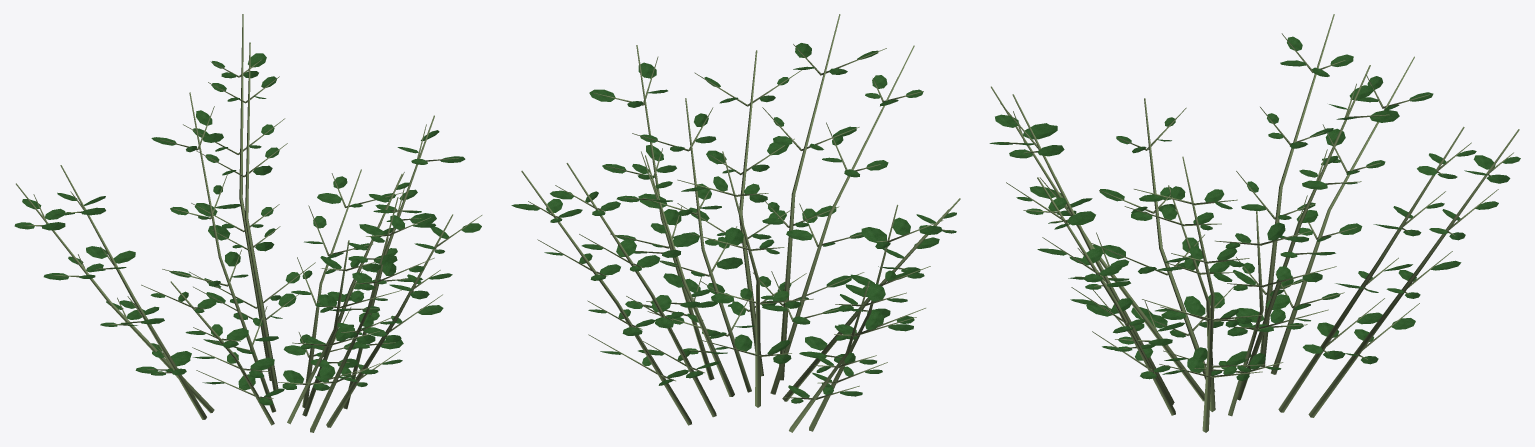
Rendered from Bilberry_Type_Cover_01_LOD2.fbx.
3 views of the same model, side by side, from view 1: azimuth 30°, elevation 25°; view 2: azimuth 150°, elevation 25°; view 3: azimuth 270°, elevation 25° (orthographic). The views are drawn at different scales.
Parts seen in each view (by area): view 1: Bilberry_Type_Cover_01_LOD2_Mesh; view 2: Bilberry_Type_Cover_01_LOD2_Mesh; view 3: Bilberry_Type_Cover_01_LOD2_Mesh.
Boxes of the visible parts, bbox=[...] form: Bilberry_Type_Cover_01_LOD2_Mesh: bbox=[14, 14, 482, 432]; Bilberry_Type_Cover_01_LOD2_Mesh: bbox=[511, 14, 960, 432]; Bilberry_Type_Cover_01_LOD2_Mesh: bbox=[989, 14, 1520, 432].
Bounding box in the file's own units: 61.45 × 46.89 × 69.87.
2 materials, 1 textured.
